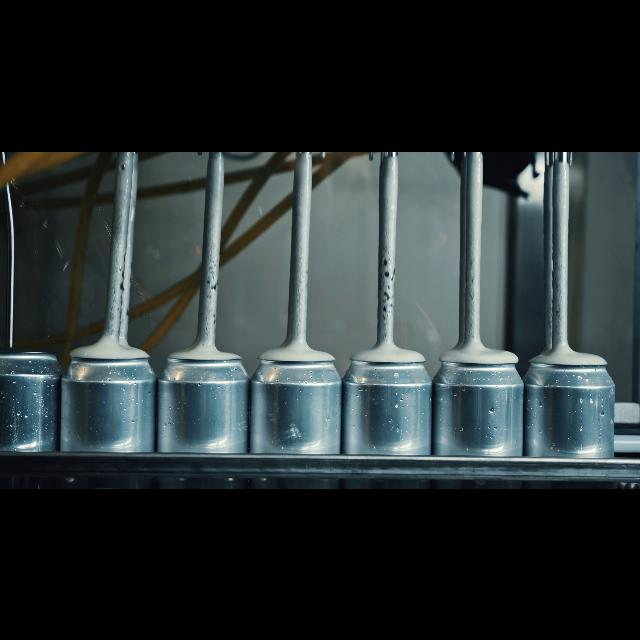empty: (1, 346, 64, 488)
full: (67, 332, 155, 488), (526, 342, 618, 488), (342, 339, 430, 488), (438, 338, 522, 488), (162, 342, 248, 488), (255, 338, 338, 488)
